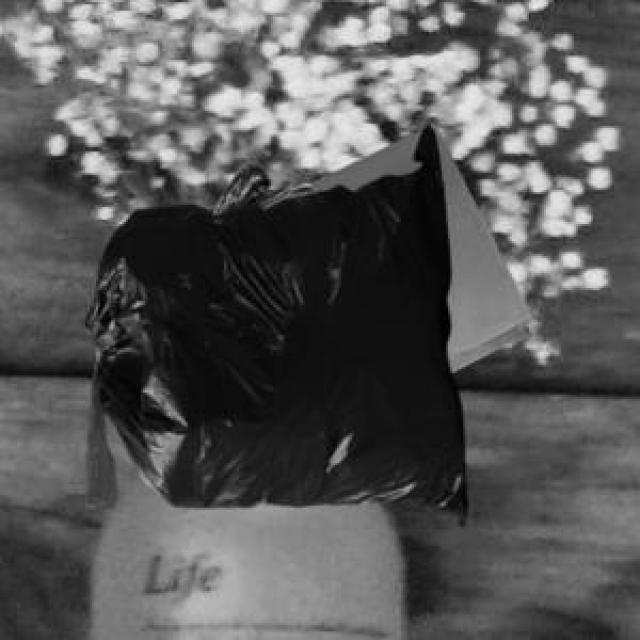miscellaneous trash: (81, 122, 463, 523), (205, 160, 309, 213)
paper: (307, 120, 527, 369)
